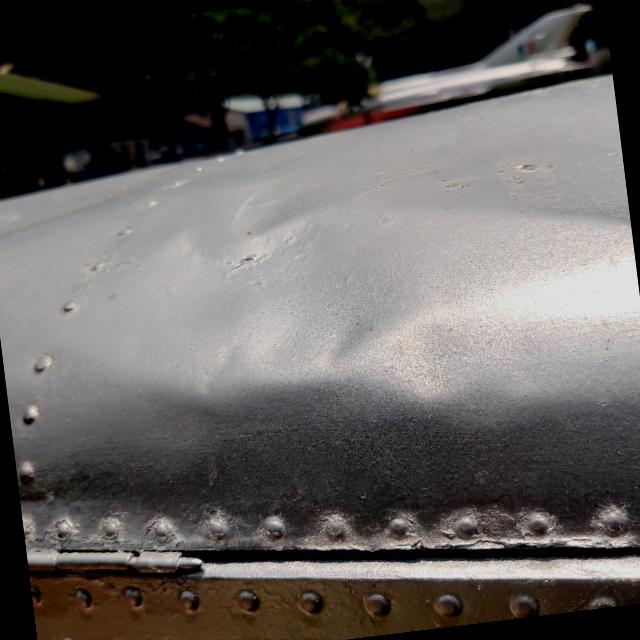dent: (76, 127, 506, 470)
